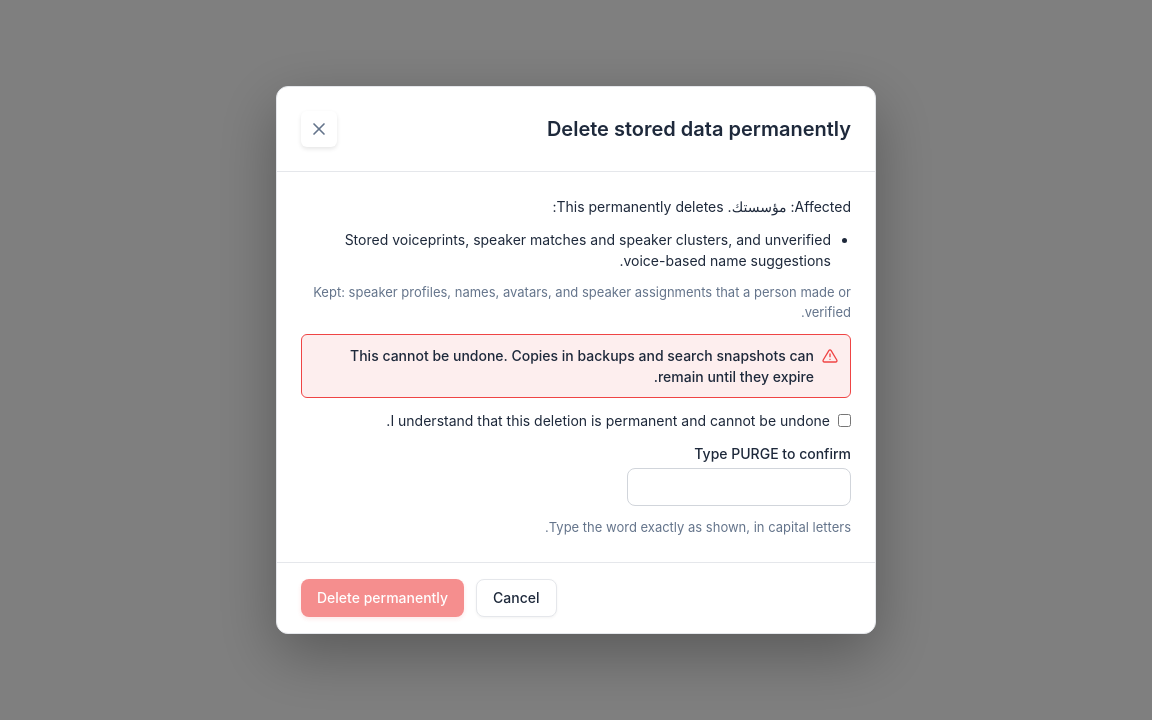
Test: under dir="rtl" › PurgeConfirmDialog still renders its labels and keeps the typed word left-to-right
Expected: the dialog is shown, 276,86 -> 876,634
Expected: the button with test id "purge-confirm" is disabled, 301,579 -> 464,617
Click the checkbox at coordinates (844, 421), box 838,414 -> 851,427
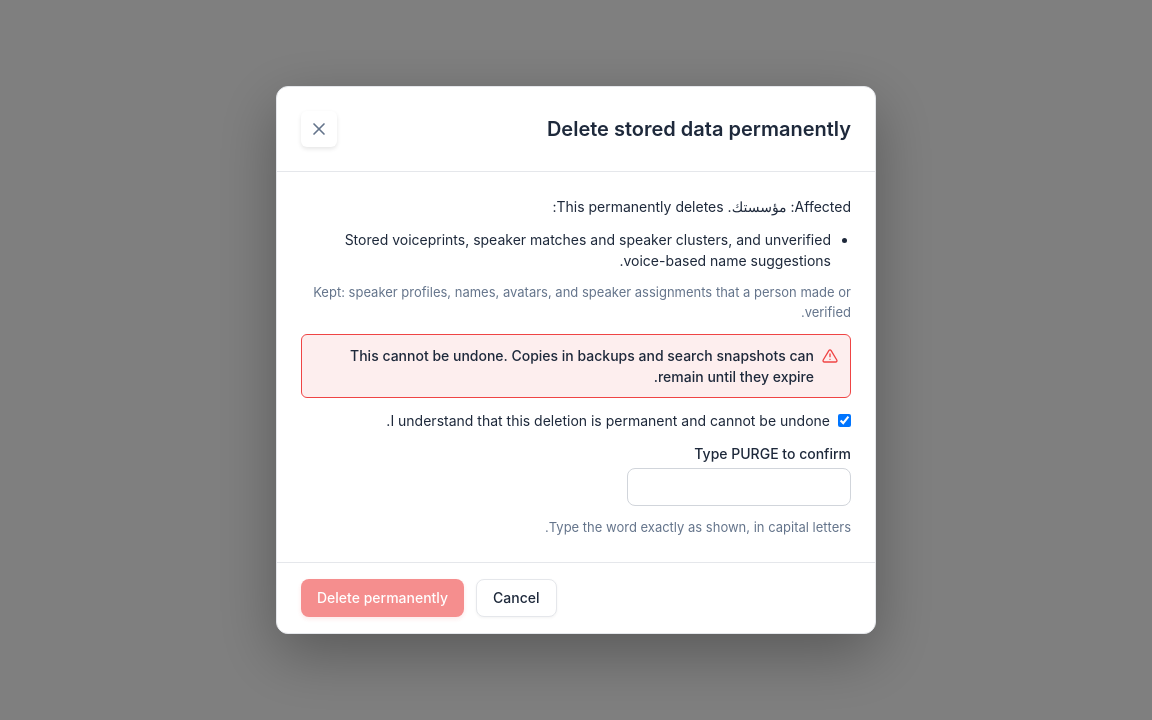
Type "PURGE" into the field at coordinates (739, 487), box 627,468 -> 851,506
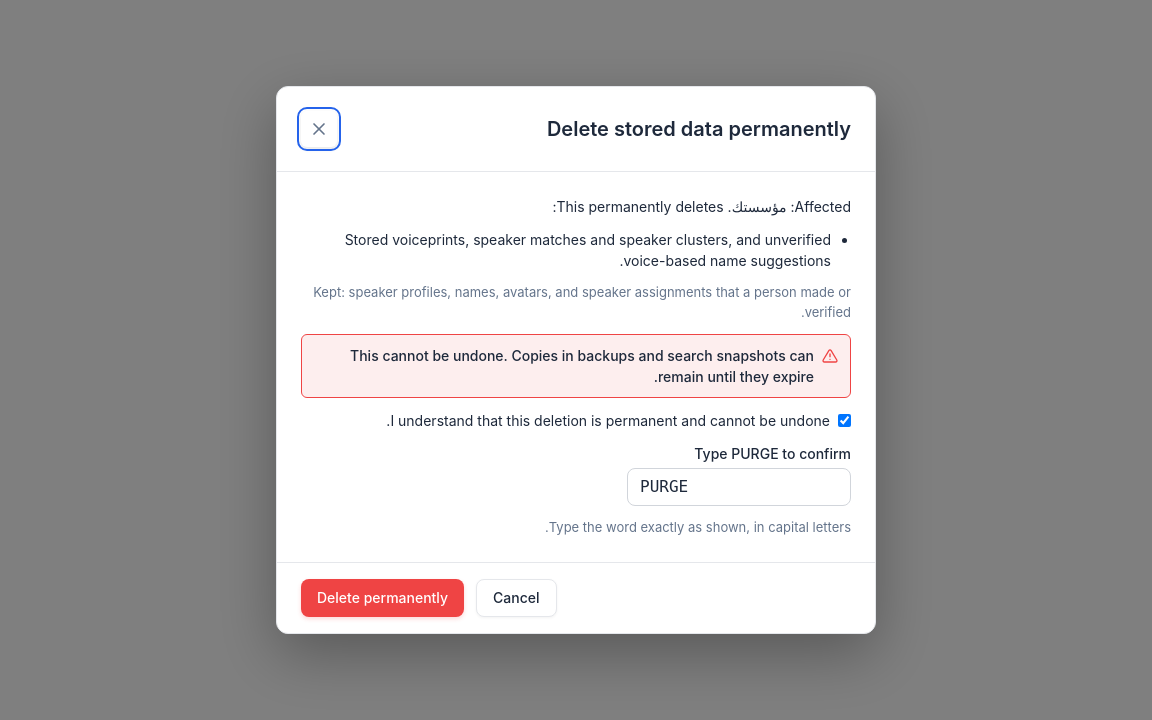
Expected: the button with test id "purge-confirm" is enabled, 301,579 -> 464,617
